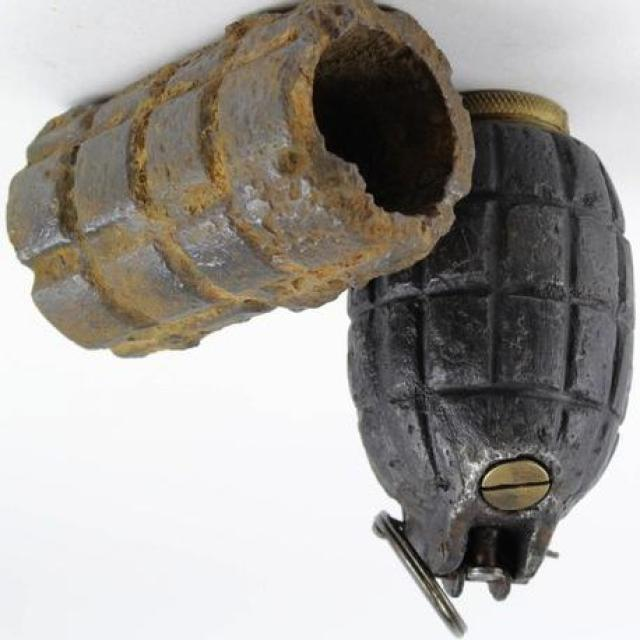grenade: (346, 89, 639, 640)
